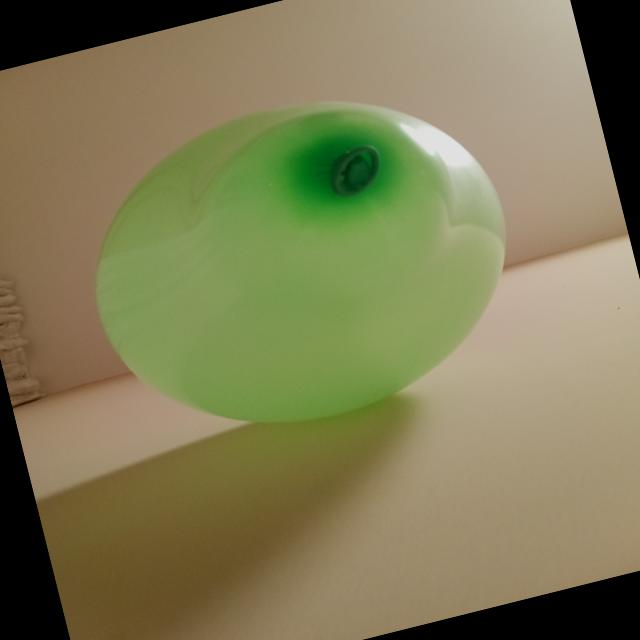balloon: (96, 102, 505, 421)
